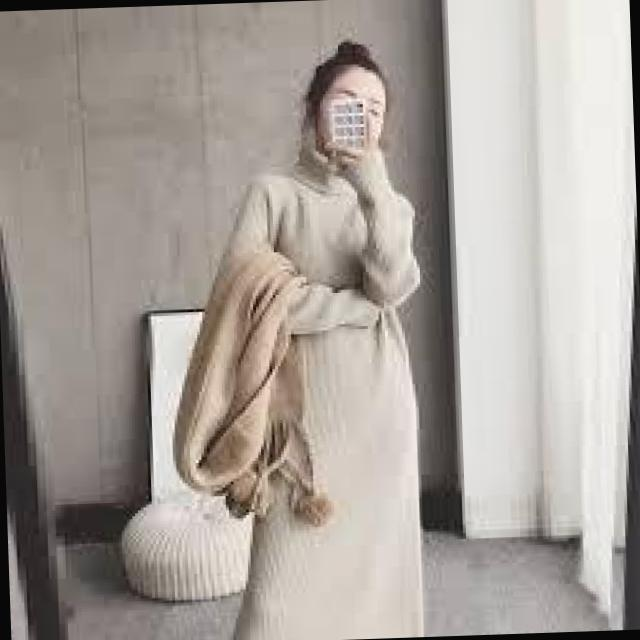dress: (223, 133, 425, 640)
